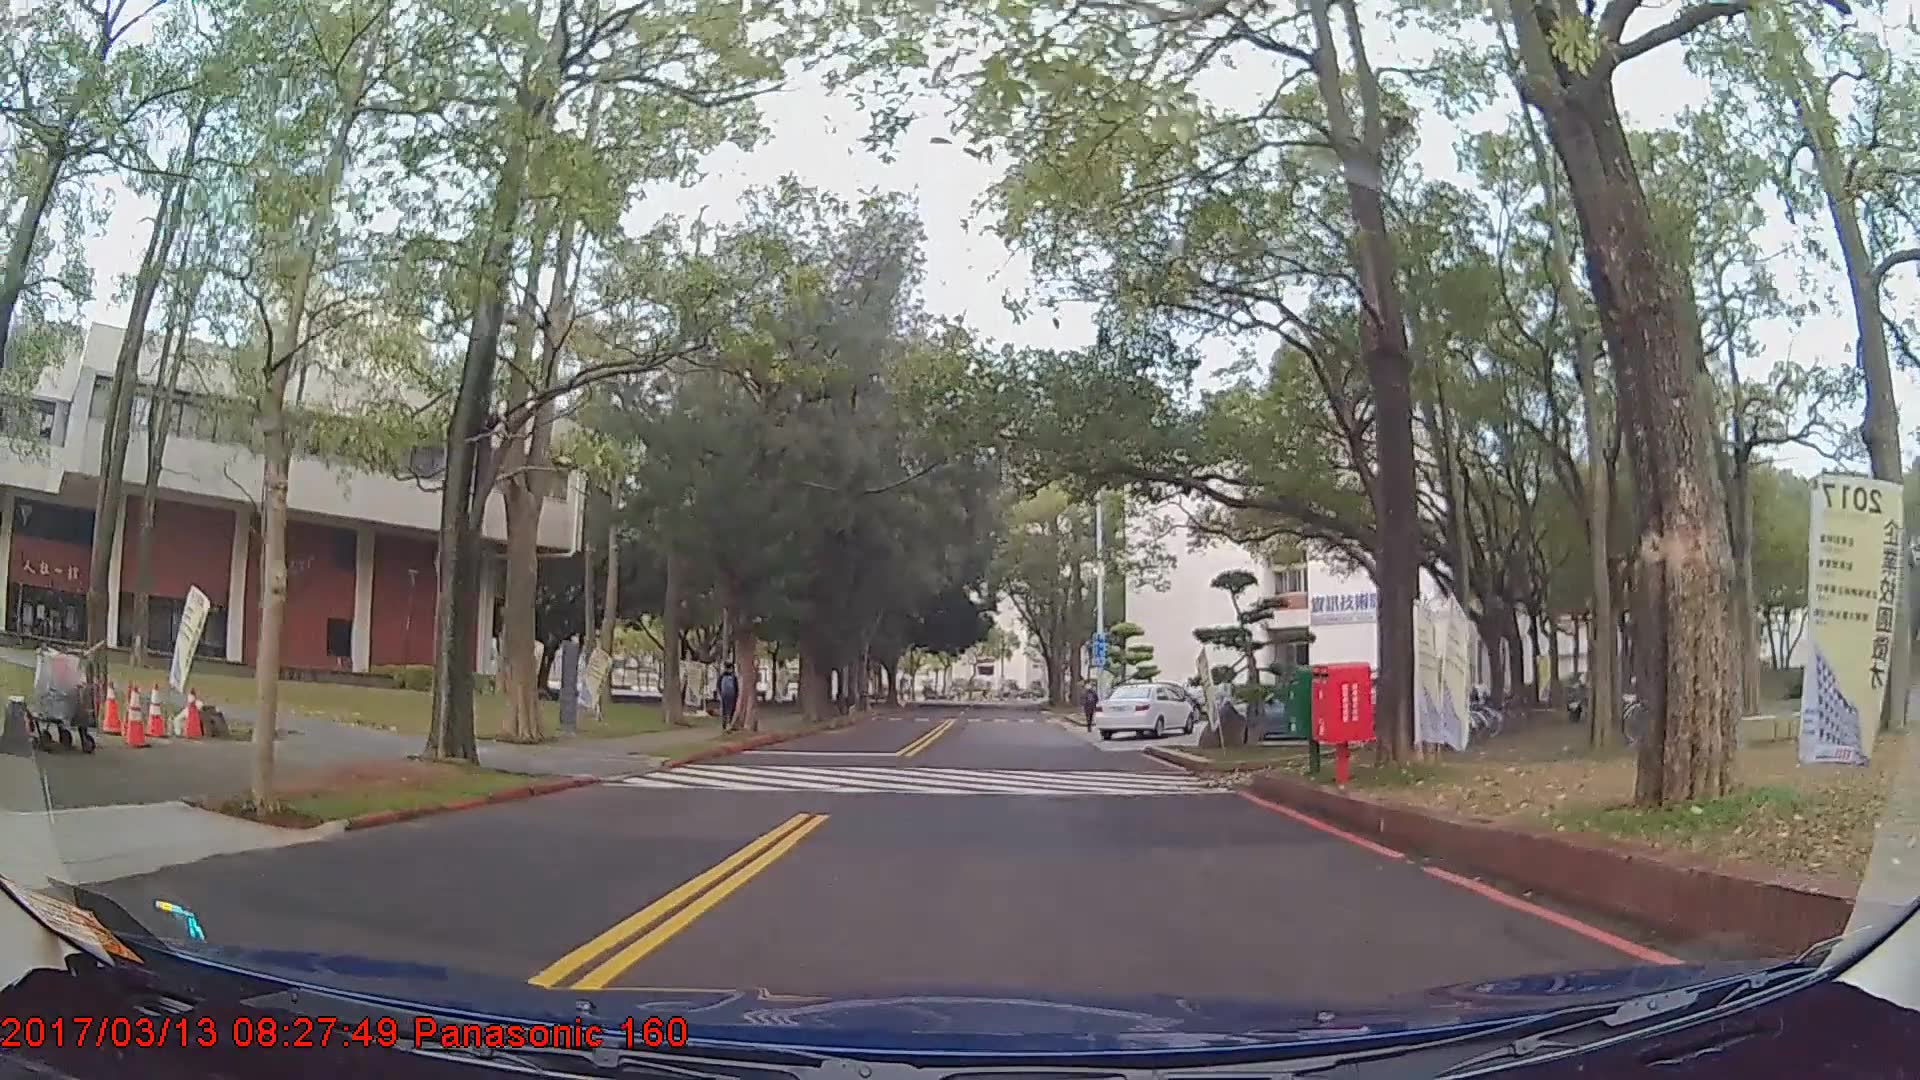pedestrian: (715, 657, 744, 726), (1080, 672, 1100, 726)
vehicle: (1094, 678, 1197, 736)
